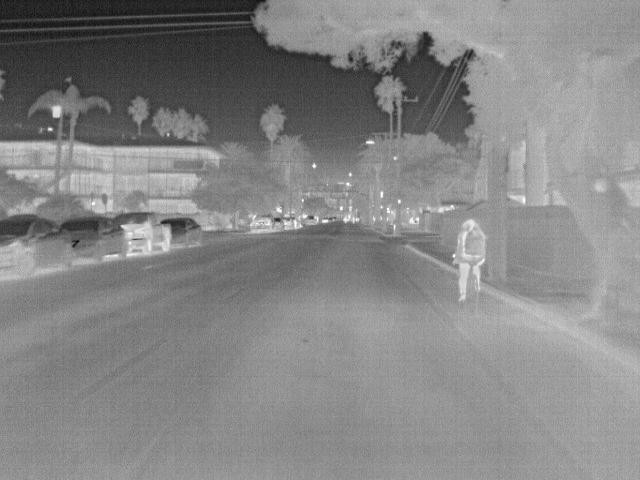car: (2, 217, 73, 276), (62, 214, 128, 262), (112, 211, 173, 256), (162, 218, 202, 248), (249, 214, 274, 234), (300, 213, 319, 227), (269, 216, 284, 232), (281, 214, 295, 230), (290, 214, 302, 228)
person: (456, 216, 491, 306)
